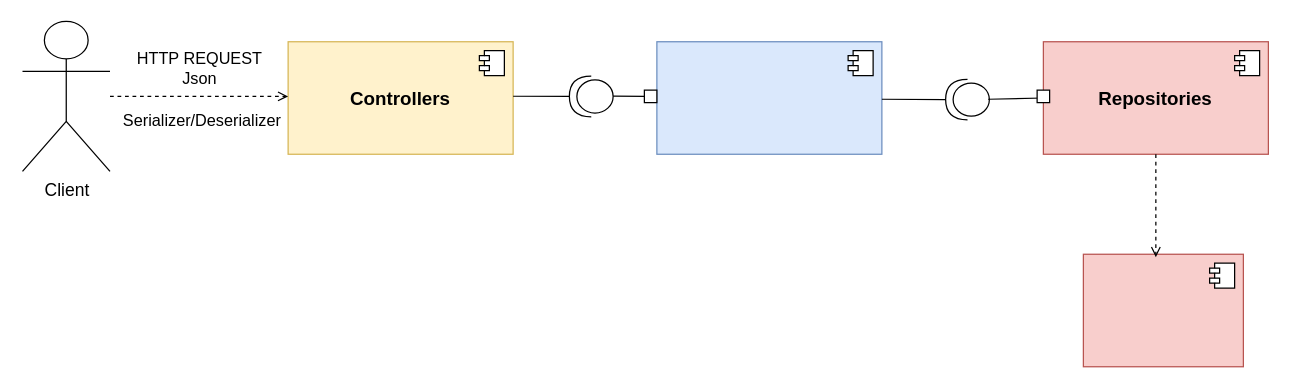
Image size: 1290x390. Some labels were removed from this diagram. Each missing label, with the centre of its shape:
Database: pixel 1162 310
Services: pixel 769 97
